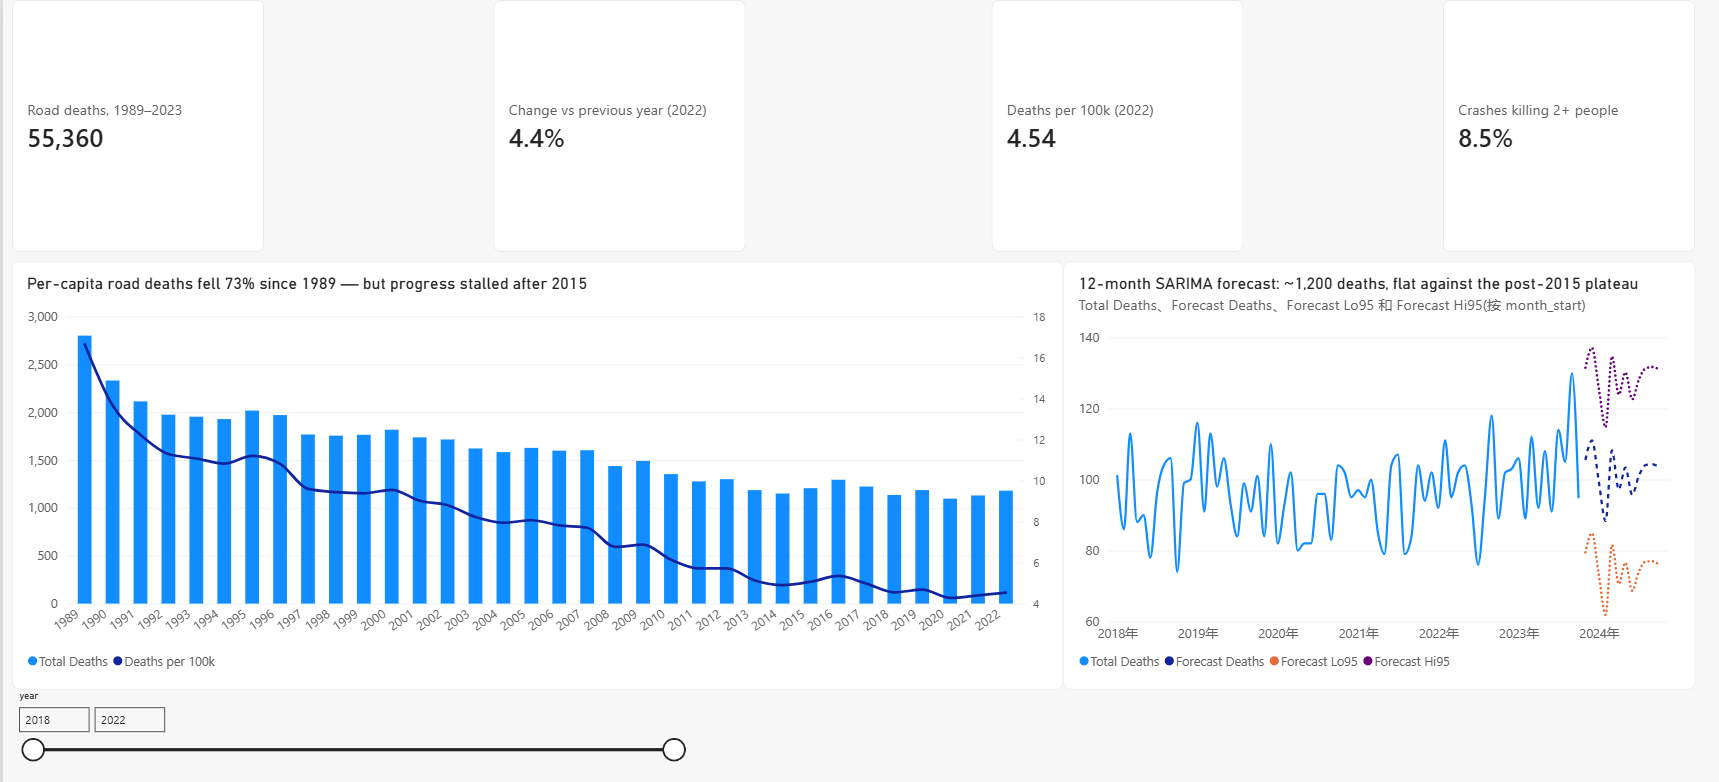

Layout of this report page (visuals, bound fields, positions):
{"tool":"powerbi","page":{"name":"Overview","canvas":[1920,1080],"ordinal":0},"visuals":[{"type":"cardVisual","fields":{"Data":["_Measures.Total Deaths Label"]},"box":[10,0,280,280],"z":0},{"type":"cardVisual","fields":{"Data":["_Measures.Deaths per 100k"]},"box":[1098.3,0,280,280],"z":1000},{"type":"cardVisual","fields":{"Data":["_Measures.Deaths YoY %"]},"box":[545,0,280,280],"z":2000},{"type":"cardVisual","fields":{"Data":["_Measures.Multi-Fatality Crash %"]},"box":[1600,0,280,280],"z":3000},{"type":"lineClusteredColumnComboChart","title":"Per-capita road deaths fell 73% since 1989 — but progress stalled after 2015","fields":{"Category":["dim_date.year"],"Y":["_Measures.Total Deaths"],"Y2":["_Measures.Deaths per 100k"]},"box":[10,290,1168,476],"z":4000},{"type":"lineChart","title":"12-month SARIMA forecast: ~1,200 deaths, flat against the post-2015 plateau","fields":{"Category":["dim_date.month_start"],"Y":["_Measures.Total Deaths","_Measures.Forecast Deaths","_Measures.Forecast Lo95","_Measures.Forecast Hi95"]},"box":[1178.3,290,702,476],"z":5000},{"type":"slicer","fields":{"Values":["dim_date.year"]},"box":[10,766.7,751.7,138.3],"z":6000}]}

Visuals, with their boxes on the page's 1920x1080 design canvas (x1, y1, x2, y2). These are canvas units, not pixel positions in the 1719x782 screenshot, which may show the page scaled, cropped or inside an application window:
cardVisual - _Measures.Total Deaths Label: pyautogui.locateOnScreen(10, 0, 290, 280)
cardVisual - _Measures.Deaths per 100k: pyautogui.locateOnScreen(1098, 0, 1378, 280)
cardVisual - _Measures.Deaths YoY %: pyautogui.locateOnScreen(545, 0, 825, 280)
cardVisual - _Measures.Multi-Fatality Crash %: pyautogui.locateOnScreen(1600, 0, 1880, 280)
"Per-capita road deaths fell 73% since 1989 — but progress stalled after 2015" lineClusteredColumnComboChart: pyautogui.locateOnScreen(10, 290, 1178, 766)
"12-month SARIMA forecast: ~1,200 deaths, flat against the post-2015 plateau" lineChart: pyautogui.locateOnScreen(1178, 290, 1880, 766)
slicer - dim_date.year: pyautogui.locateOnScreen(10, 767, 762, 905)
